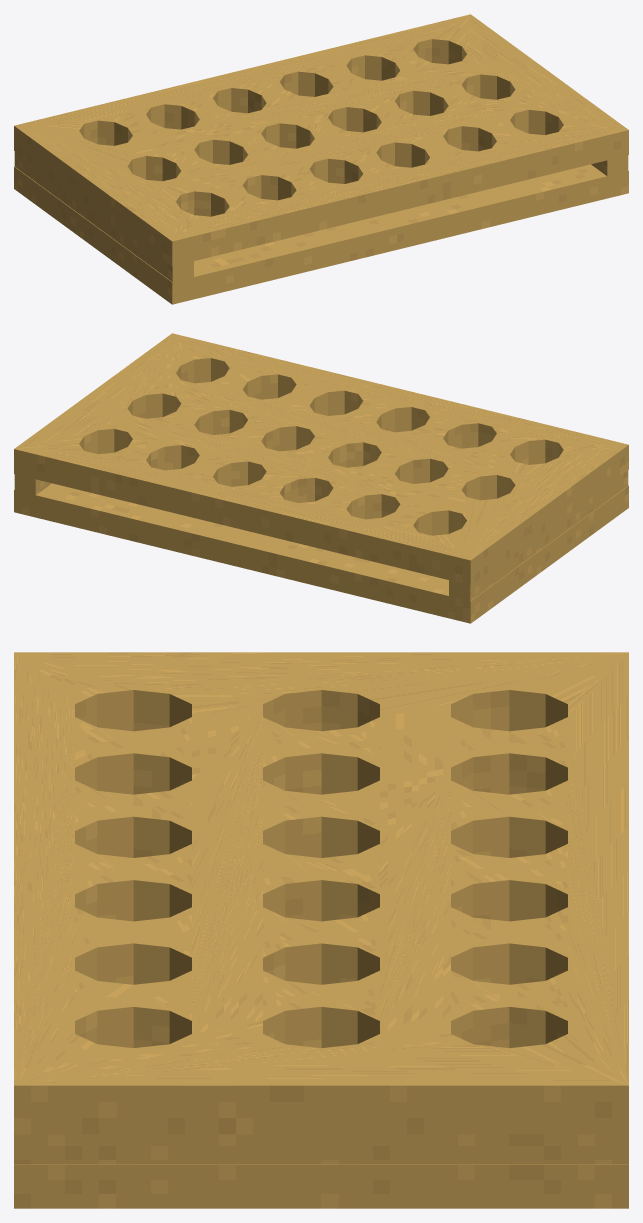
Rendered from rack_test_tube_micro.glb.
3 renders of one model, top to bottom at view 1: azimuth 30°, elevation 25°; view 2: azimuth 150°, elevation 25°; view 3: azimuth 270°, elevation 25°, orthographic. The views are drawn at different scales.
Parts seen in each view (by area): view 1: block_rack deck with socket holes, block_rack base, block_rack end (×2); view 2: block_rack deck with socket holes, block_rack base, block_rack end (×2); view 3: block_rack deck with socket holes, block_rack base, block_rack end.
Boxes of the visible parts, <box> form: block_rack deck with socket holes: <box>14,14,628,266</box>; block_rack base: <box>14,164,628,304</box>; block_rack end (×2): <box>14,151,628,284</box>; block_rack deck with socket holes: <box>14,333,628,585</box>; block_rack base: <box>14,483,628,623</box>; block_rack end (×2): <box>14,470,628,605</box>; block_rack deck with socket holes: <box>14,652,628,1134</box>; block_rack base: <box>14,1164,628,1208</box>; block_rack end: <box>14,1134,628,1164</box>.
Bounding box in the file's own units: 0.0999 × 0.0132 × 0.0599.
Materials: 1 (1 with a texture image).
